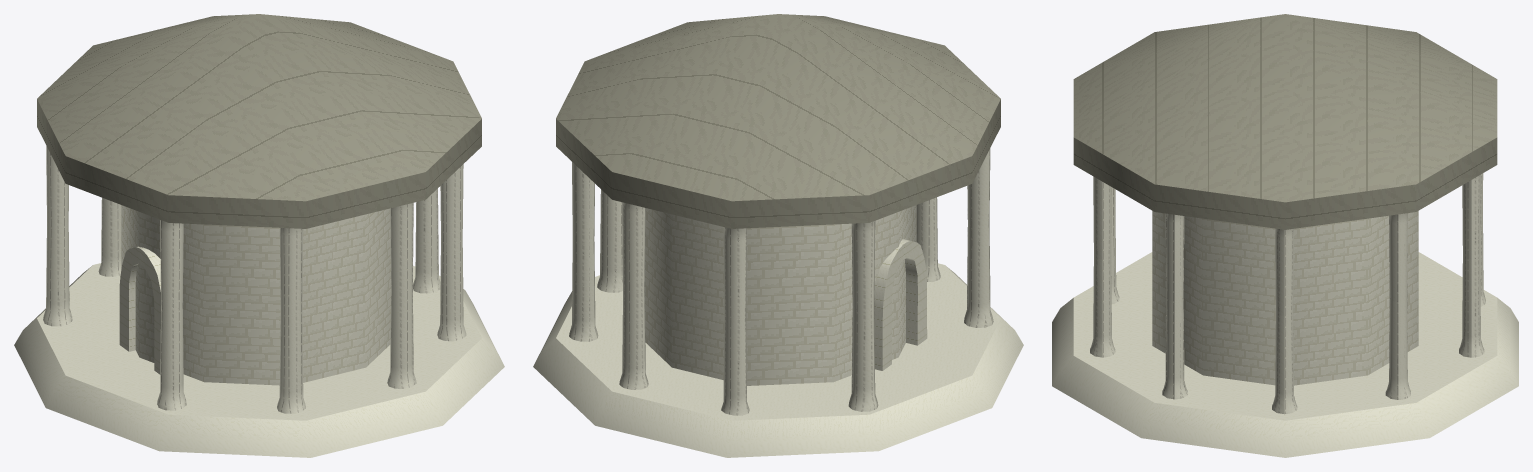
Rendered from water_bank.fbx.
The picture shows the model from 3 angles, left to right: view 1: azimuth 30°, elevation 25°; view 2: azimuth 150°, elevation 25°; view 3: azimuth 270°, elevation 25°; orthographic projection.
Parts seen in each view (by area): view 1: bank; view 2: bank; view 3: bank.
Part boxes in pixels (box(x1,y1,x2,y2)): bank: box(14, 14, 504, 457); bank: box(533, 14, 1023, 457); bank: box(1052, 14, 1518, 457).
Size of the model in its own units: 3102 by 2372 by 2950.
Materials: 5 (5 with a texture image).
